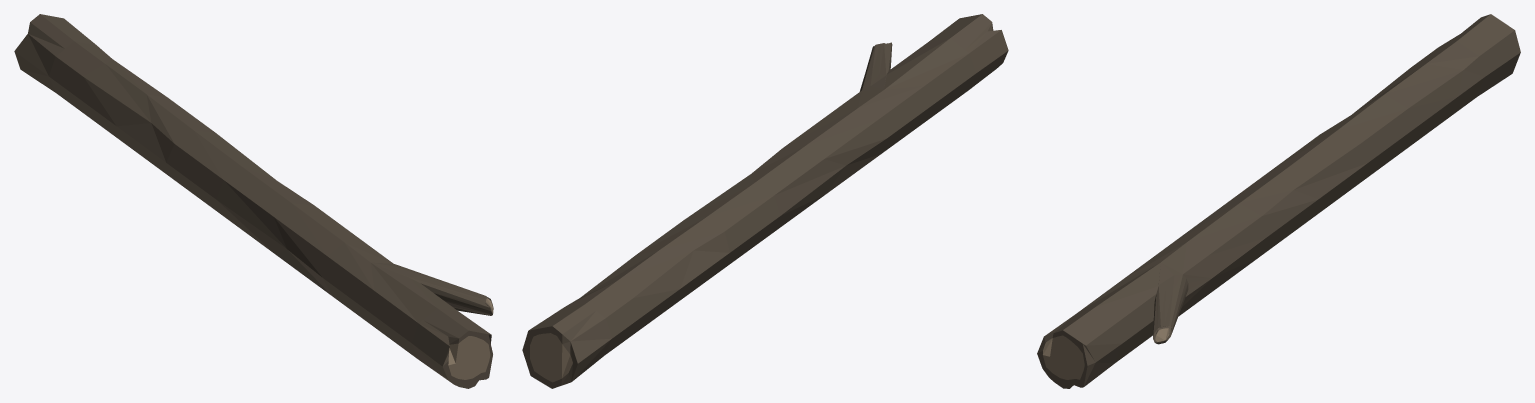
File: Stick.fbx
3 views of the same model, side by side, from view 1: azimuth 30°, elevation 25°; view 2: azimuth 150°, elevation 25°; view 3: azimuth 330°, elevation 25° (orthographic).
Visible parts, largest first — view 1: pCube1; view 2: pCube1; view 3: pCube1.
Part boxes in pixels (x1,y1,x2,y2): pCube1: (14, 14, 493, 388); pCube1: (522, 14, 1008, 388); pCube1: (1037, 14, 1520, 388).
Size of the model in its own units: 1.65 by 1.07 by 13.33.
